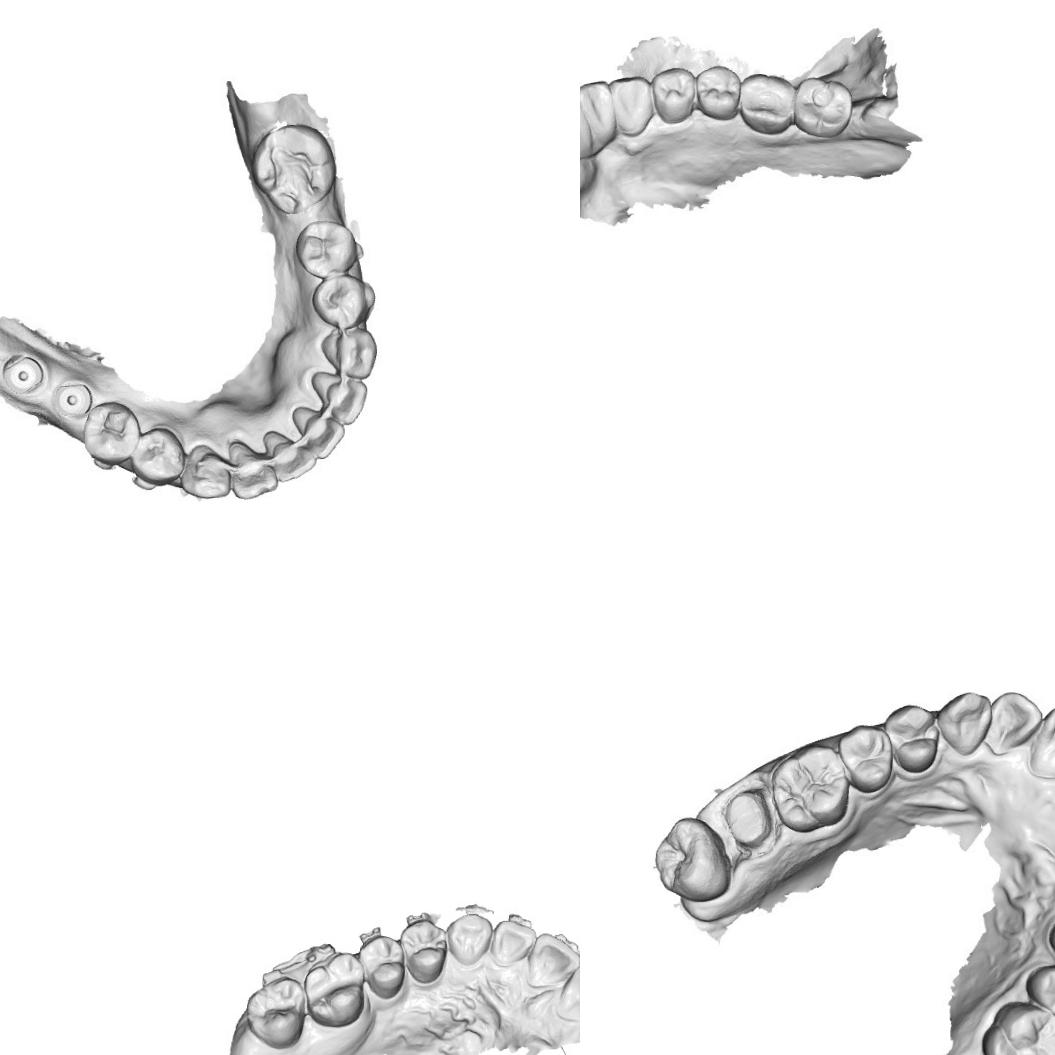canine: (935, 690, 993, 758), (178, 442, 236, 503), (319, 327, 382, 380), (608, 69, 655, 136), (442, 910, 495, 968)
crown: (723, 788, 770, 850)
implant: (0, 348, 51, 395), (53, 376, 95, 423)
incisor: (314, 368, 370, 426), (993, 686, 1040, 752), (526, 930, 580, 985), (228, 444, 278, 498), (489, 917, 538, 970), (266, 429, 311, 482), (298, 406, 344, 456), (580, 79, 617, 134), (1029, 709, 1055, 774), (554, 964, 580, 1023)
molar: (253, 121, 340, 216), (654, 814, 731, 907), (772, 747, 846, 826), (302, 948, 368, 1030), (243, 974, 307, 1052), (736, 70, 798, 136), (792, 75, 853, 140), (985, 1000, 1055, 1055)
premolar: (80, 398, 145, 466), (838, 724, 898, 795), (886, 701, 940, 774), (126, 426, 188, 484), (312, 269, 375, 326), (398, 916, 450, 985), (356, 933, 407, 1001), (301, 218, 356, 278), (650, 64, 699, 125), (694, 62, 740, 122), (1033, 967, 1055, 1024)
